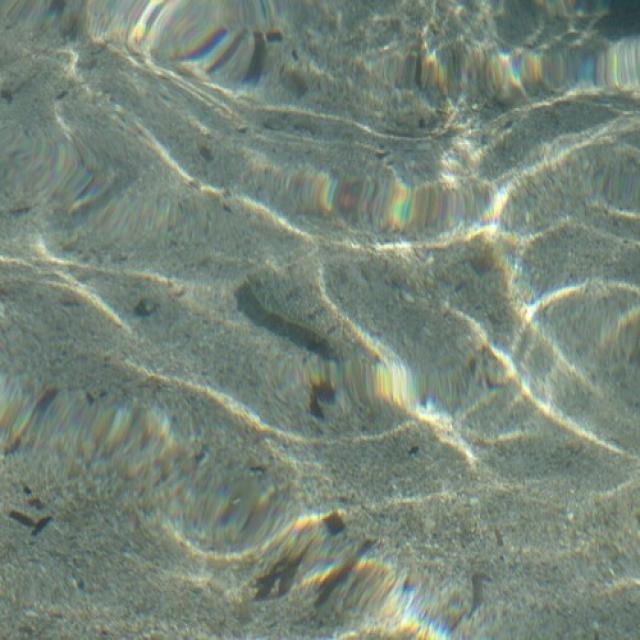Balik: (243, 262, 364, 357)
